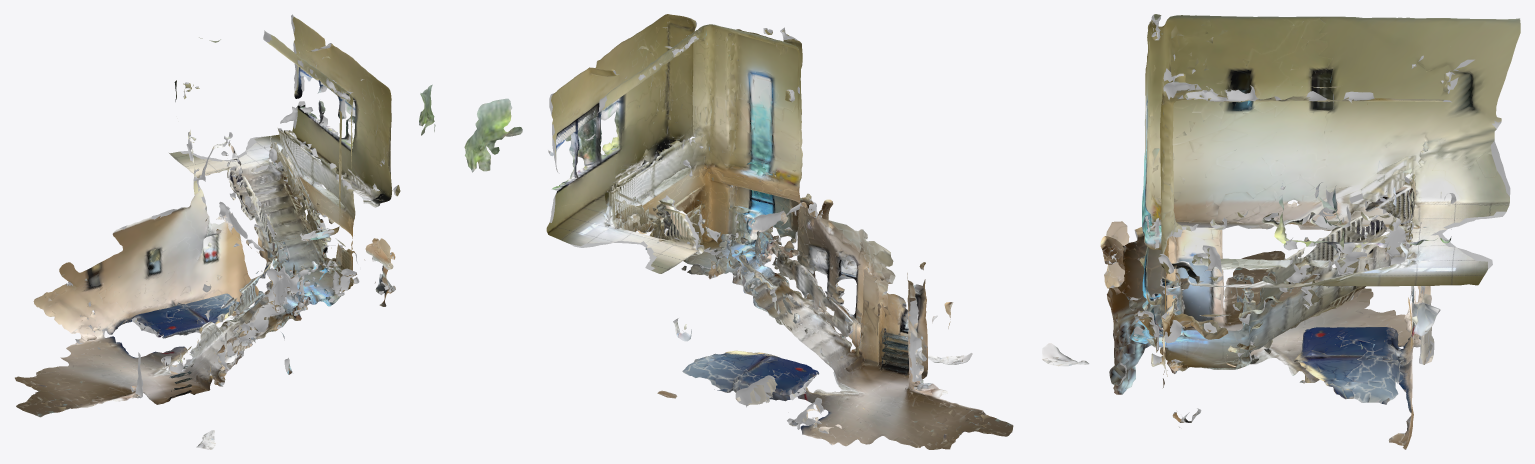
File: MAP_Y2A6FJO1YJUE.glb
3 renders of one model, left to right at view 1: azimuth 30°, elevation 25°; view 2: azimuth 150°, elevation 25°; view 3: azimuth 270°, elevation 25°, orthographic. The views are drawn at different scales.
Visible parts, largest first — view 1: TexturedMesh.obj; view 2: TexturedMesh.obj; view 3: TexturedMesh.obj.
Boxes of the visible parts, left/top/right/bottom form: TexturedMesh.obj: left=15, top=14, right=435, bottom=449; TexturedMesh.obj: left=464, top=14, right=1013, bottom=449; TexturedMesh.obj: left=1042, top=14, right=1520, bottom=449.
Bounding box in the file's own units: 13.31 × 8.24 × 8.21.
Materials: 1 (1 with a texture image).
